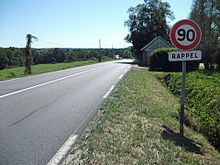Speed_limit_90km: (169, 19, 202, 49)
